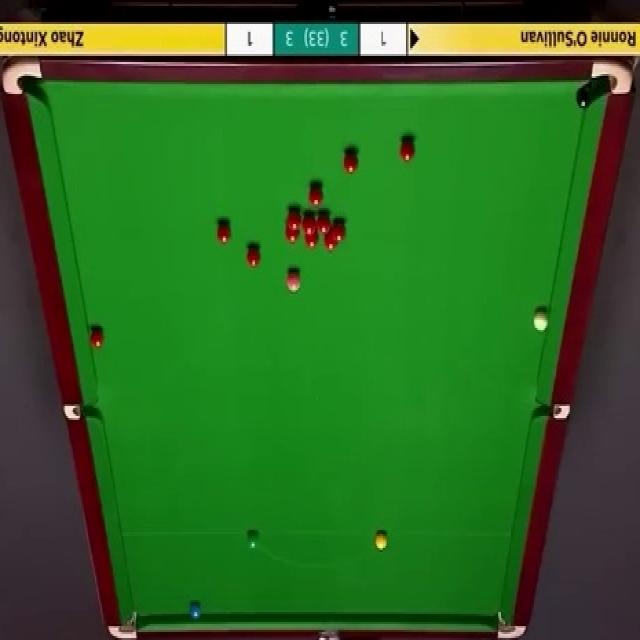pocket: (1, 55, 43, 97), (591, 62, 634, 98), (494, 609, 528, 640), (108, 608, 140, 640), (534, 403, 570, 419), (64, 405, 99, 420)
